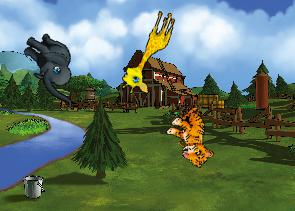elephant: (8, 27, 95, 108)
giraffe: (117, 4, 178, 99)
tiger: (159, 101, 228, 171)
